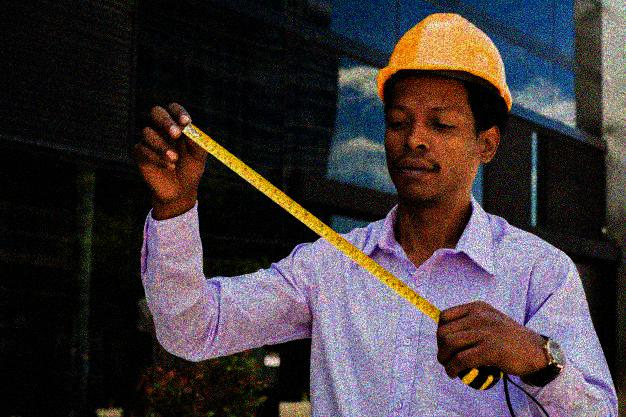helmet: (373, 11, 514, 206)
